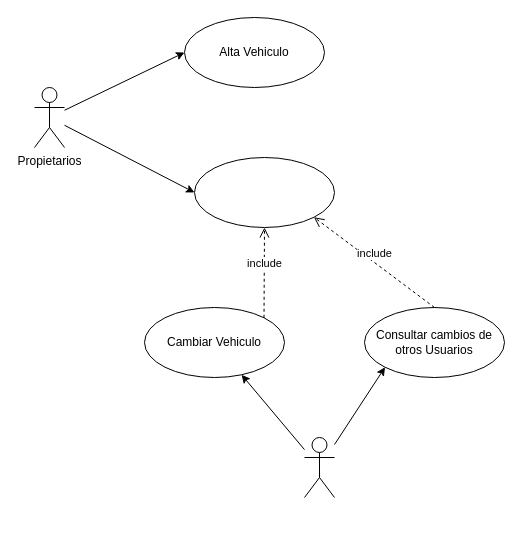
This 522x536 diagram has some shape labels left out. Here are the shapes that lost their labels. From the top down, the centre of each, then its label:
At (264,192): "Seleccionar Usuarios".
At (319,467): "Usuario".
